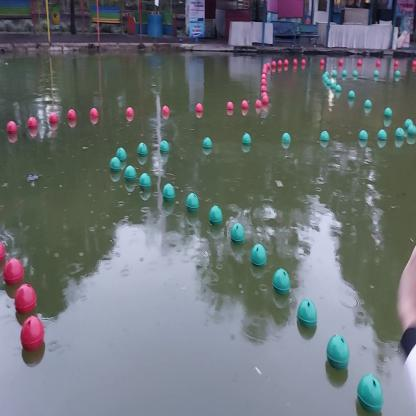green_buoy: (355, 367, 385, 412), (328, 328, 350, 369), (296, 296, 317, 333), (250, 241, 268, 274), (272, 265, 290, 298), (162, 176, 178, 208), (207, 200, 225, 227), (122, 158, 138, 184), (139, 167, 152, 196), (185, 190, 200, 214), (231, 221, 245, 245), (114, 141, 128, 164), (158, 138, 171, 162), (138, 140, 151, 163), (110, 153, 121, 175), (378, 122, 388, 146), (318, 126, 330, 146), (241, 130, 252, 150), (356, 127, 368, 144), (282, 129, 292, 149), (395, 124, 404, 145), (200, 136, 212, 151), (408, 122, 415, 140)
red_buoy: (21, 310, 44, 360), (0, 250, 28, 288), (12, 280, 38, 317), (47, 109, 59, 129), (27, 111, 37, 134), (7, 117, 18, 137), (159, 102, 172, 116), (88, 105, 99, 121), (194, 101, 204, 116), (124, 103, 134, 118), (66, 107, 76, 122), (254, 94, 262, 112), (262, 93, 272, 107), (240, 99, 250, 111), (227, 97, 234, 111)
